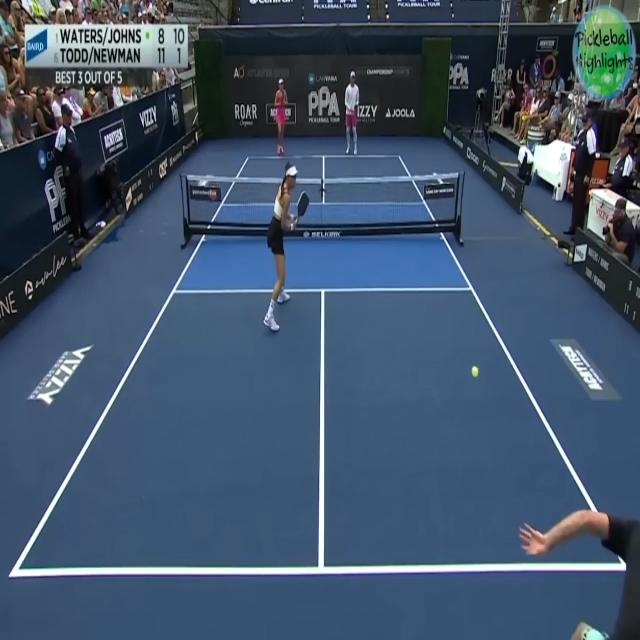Pickleball: (470, 362, 479, 380)
